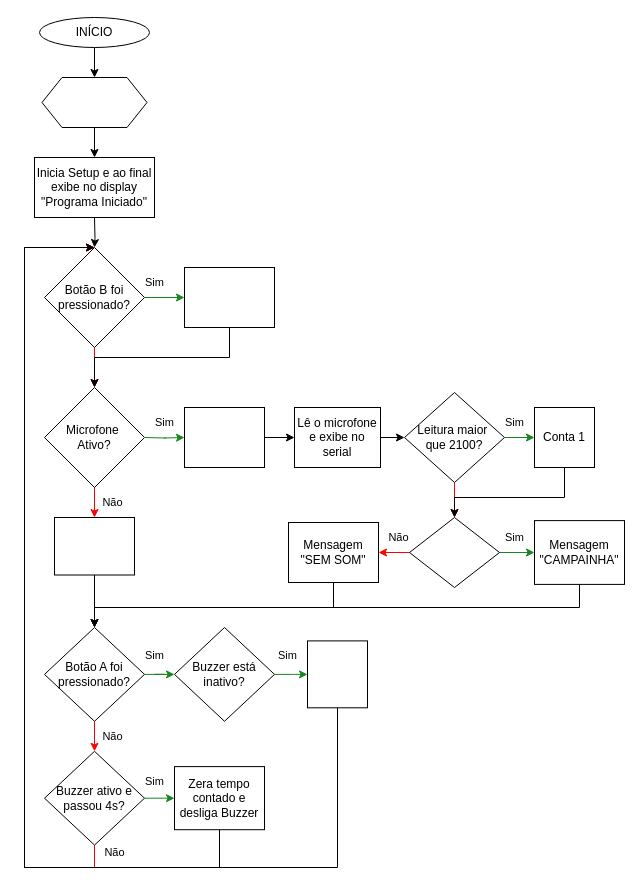
Image size: 642x893. Some labels were removed from this diagram. The centre of each missing label's shape, as x and y in pixels:
Ativa microfone: (x=229, y=297)
Contador é 3?: (x=454, y=552)
Define variáveis grobais: (x=94, y=102)
Desliga LED verde: (x=94, y=545)
Liga Buzzer: (x=337, y=674)
Liga LED verde: (x=224, y=437)
